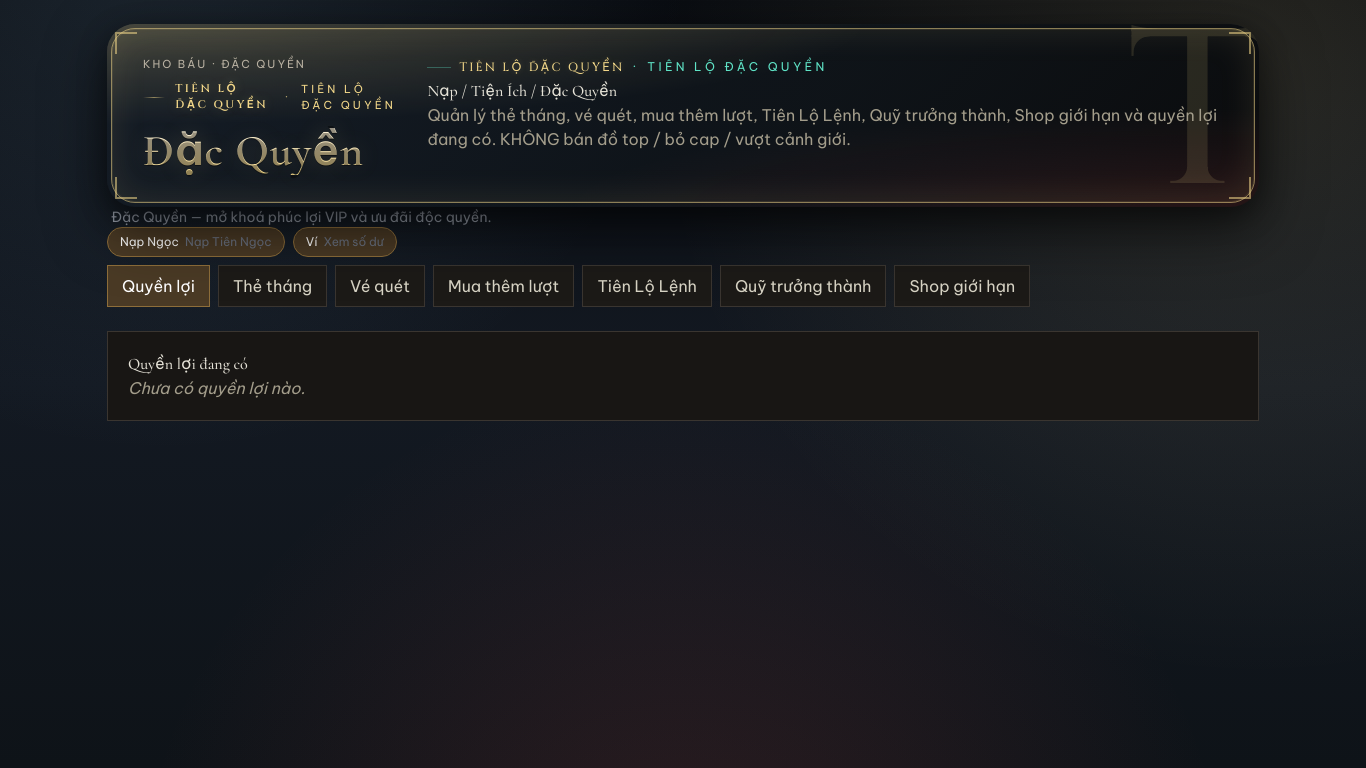
it: MonetizationDacQuyenView — Phase 27.1–27.5 › renders growth fund tien variant in tab
Click the tab with class "tab" showing "Quỹ trưởng thành".
click(803, 286)  # box [720,265,886,307]
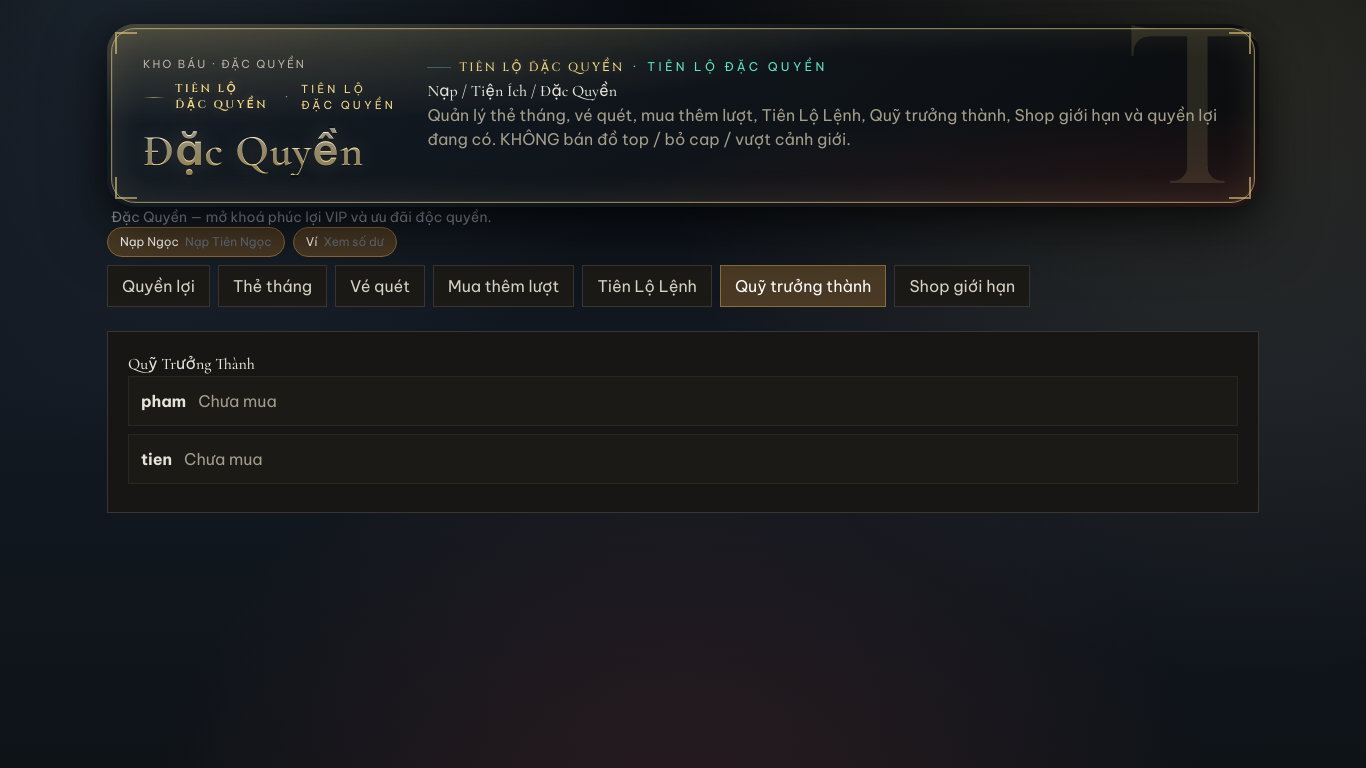
Expected: the text "tien" is shown, [141,447,172,471]
Expected: the text "Chưa mua" is shown, [198,389,277,413]
